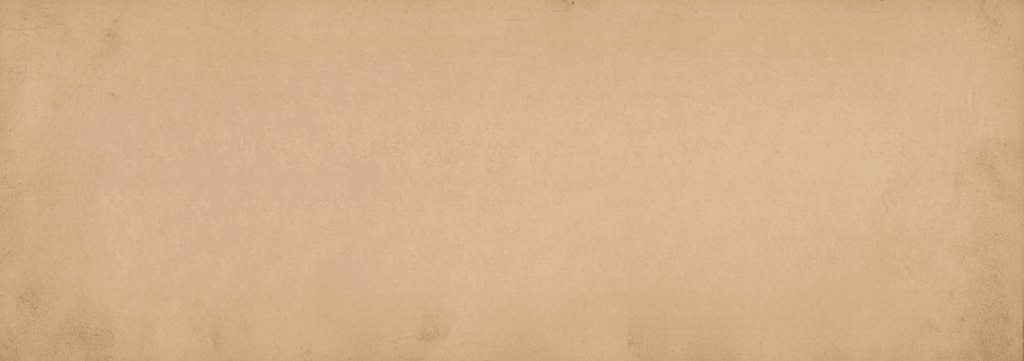chinese_no: (906, 45, 1013, 329)
text_body: (130, 45, 903, 329)
tibetan_no: (14, 46, 127, 329)
